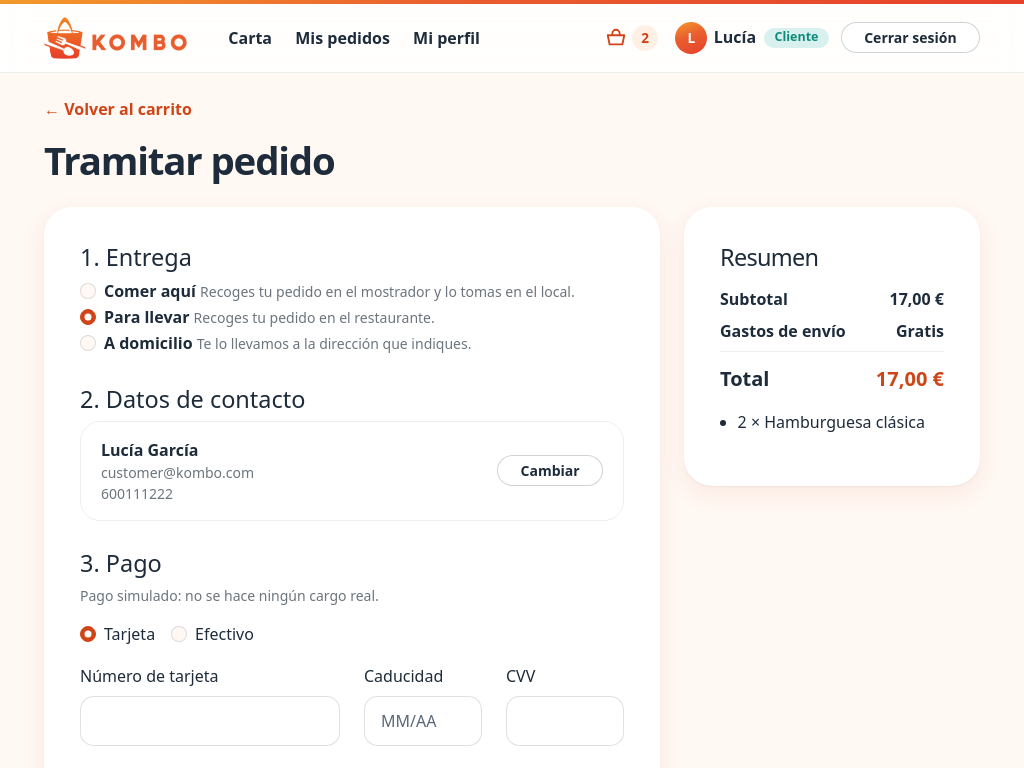
Test: CheckoutPage › shows the saved data of the customer, who can pay in cash without card data
Expected: the text "Lucía García" is shown, [101, 439, 198, 461]
Expected: the text "customer@kombo.com" is shown, [101, 462, 254, 483]
Click the radio button labelled "Efectivo": (179, 634) [171, 626, 187, 642]
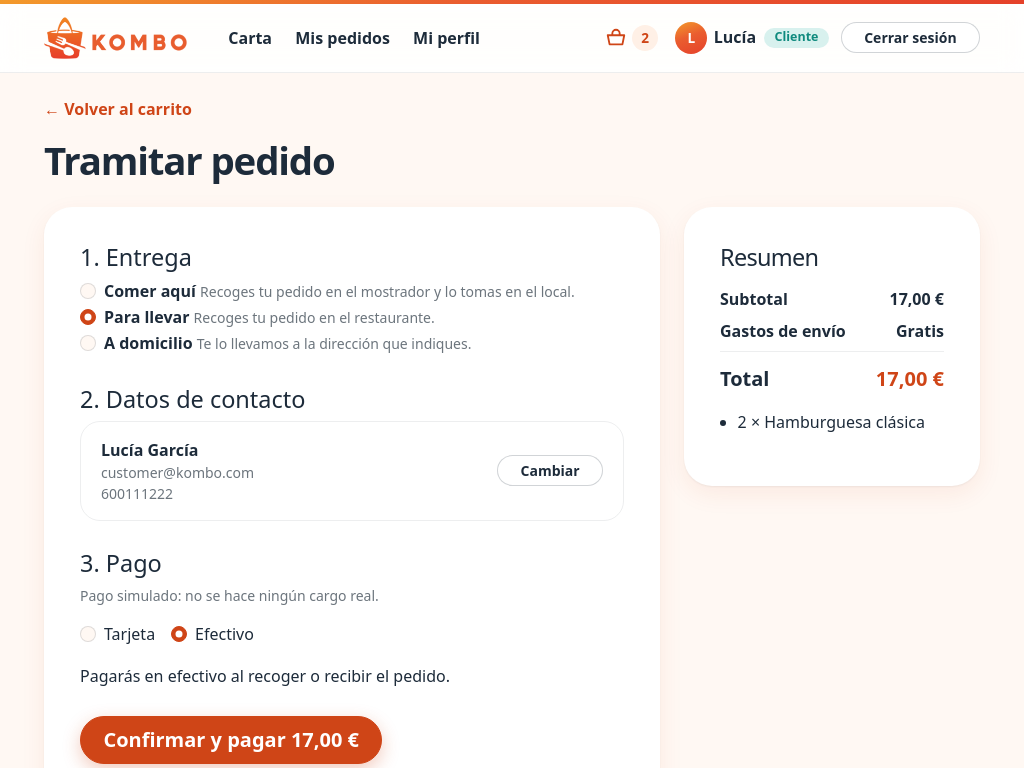
Result: the label labelled "Número de tarjeta" is gone
Click the button "Confirmar y pagar 17,00 €": (231, 740) [80, 716, 382, 764]
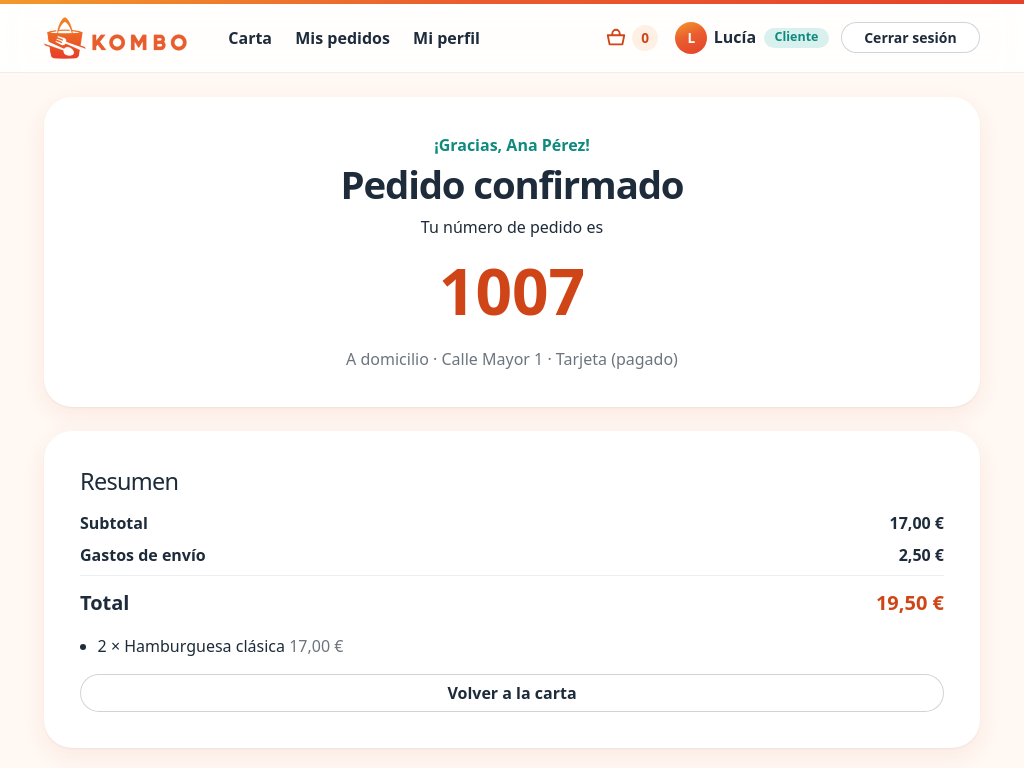
Result: the heading "Pedido confirmado" is shown at [340, 158, 684, 210]
